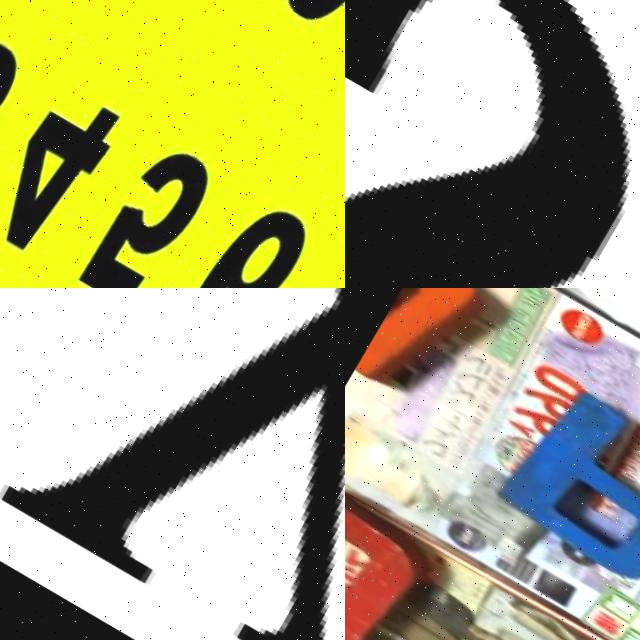3: (0, 0, 61, 239)
4: (0, 54, 149, 288)
5: (19, 107, 249, 288)
6: (108, 166, 343, 288)
P: (489, 386, 640, 603)
S: (345, 0, 640, 288)
U: (345, 461, 435, 640)
Y: (0, 288, 345, 640)
